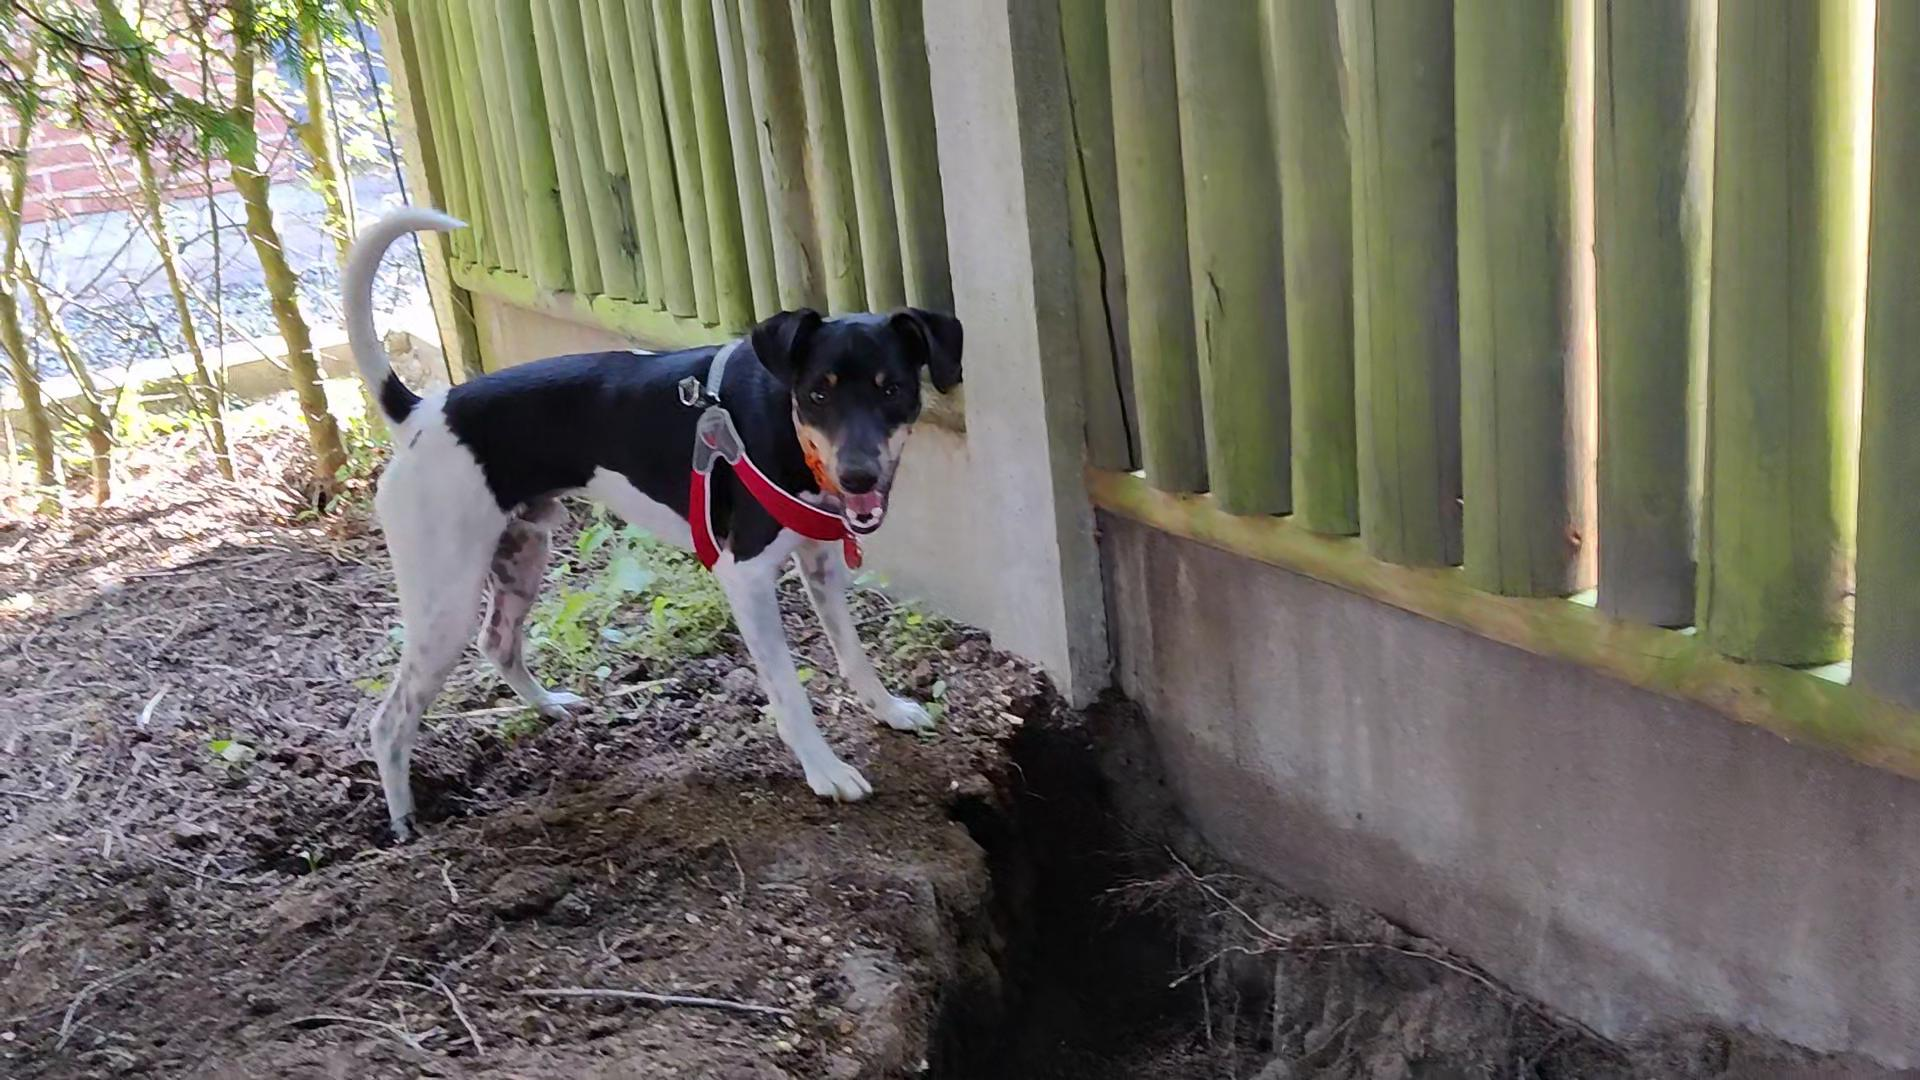Dog: (331, 179, 971, 851)
